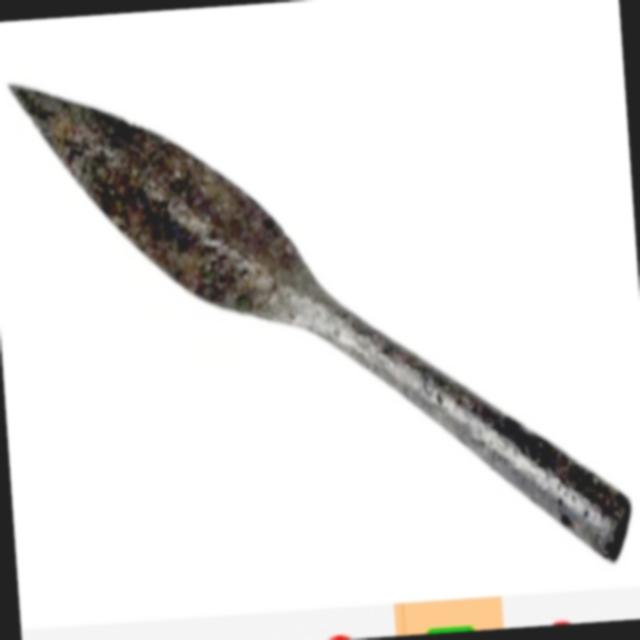spear: (0, 18, 639, 621)
